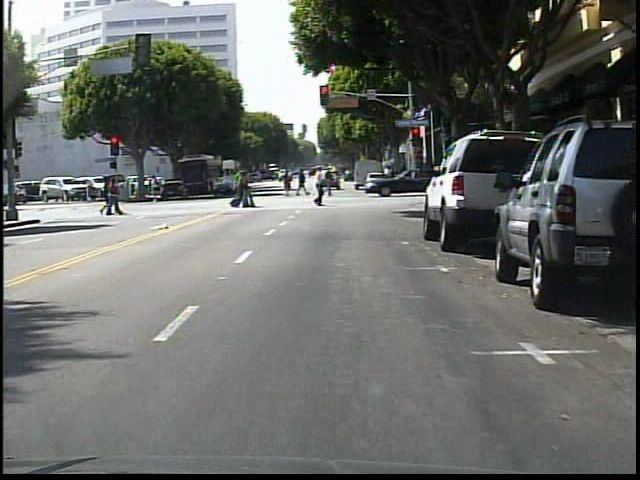person: (309, 165, 332, 214), (146, 172, 165, 202), (324, 167, 339, 196)
